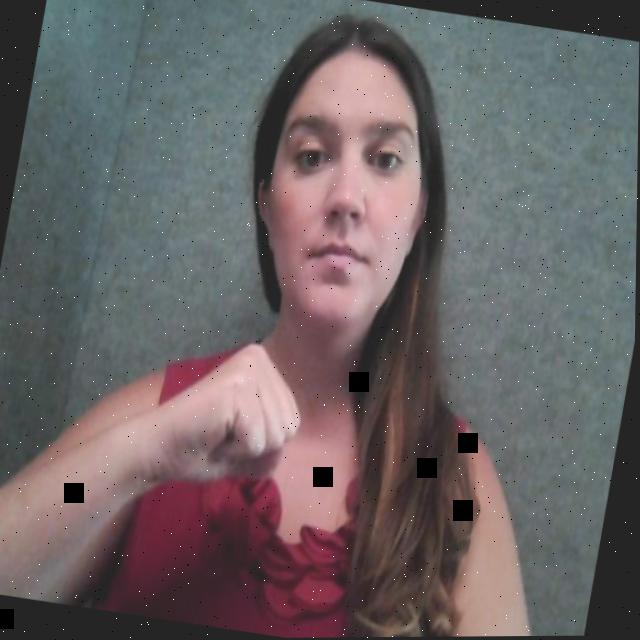Rock: (90, 305, 337, 555)
